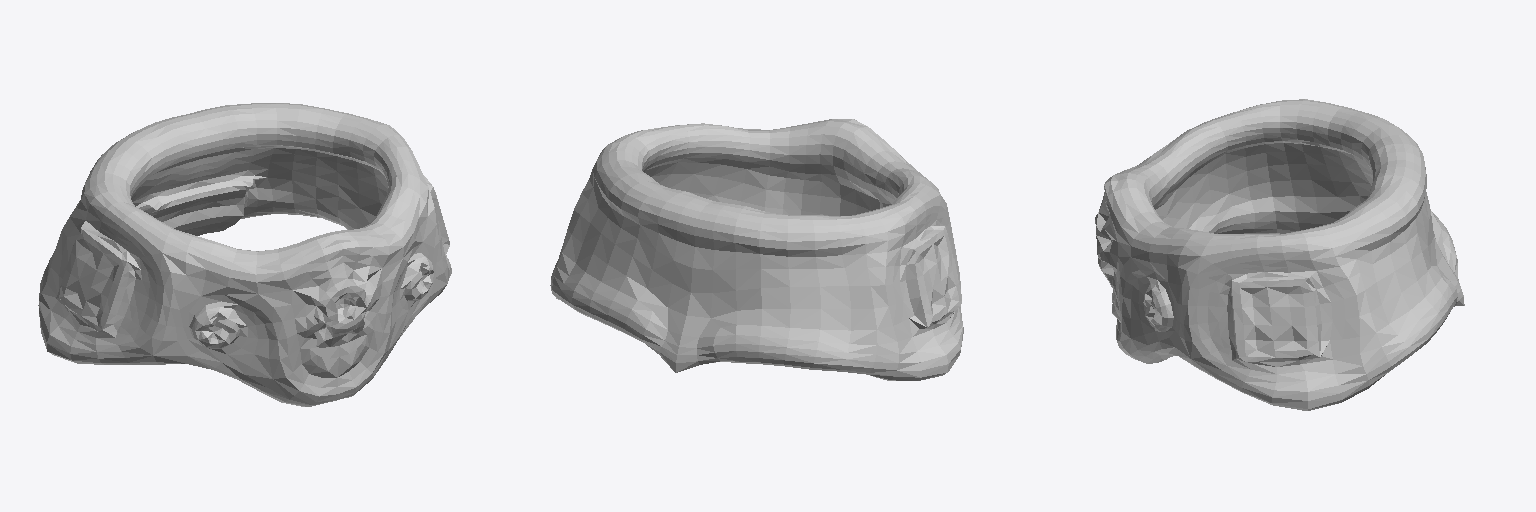
File: Belt.OBJ
3 views of the same model, side by side, from view 1: azimuth 30°, elevation 25°; view 2: azimuth 150°, elevation 25°; view 3: azimuth 270°, elevation 25° (orthographic).
Parts seen in each view (by area): view 1: Group24880; view 2: Group24880; view 3: Group24880.
Boxes of the visible parts, box(x1,y1,x2,y2) form: Group24880: box(38, 103, 451, 406); Group24880: box(550, 119, 963, 380); Group24880: box(1095, 99, 1464, 410).
Size of the model in its own units: 46.05 by 21.84 by 37.8.